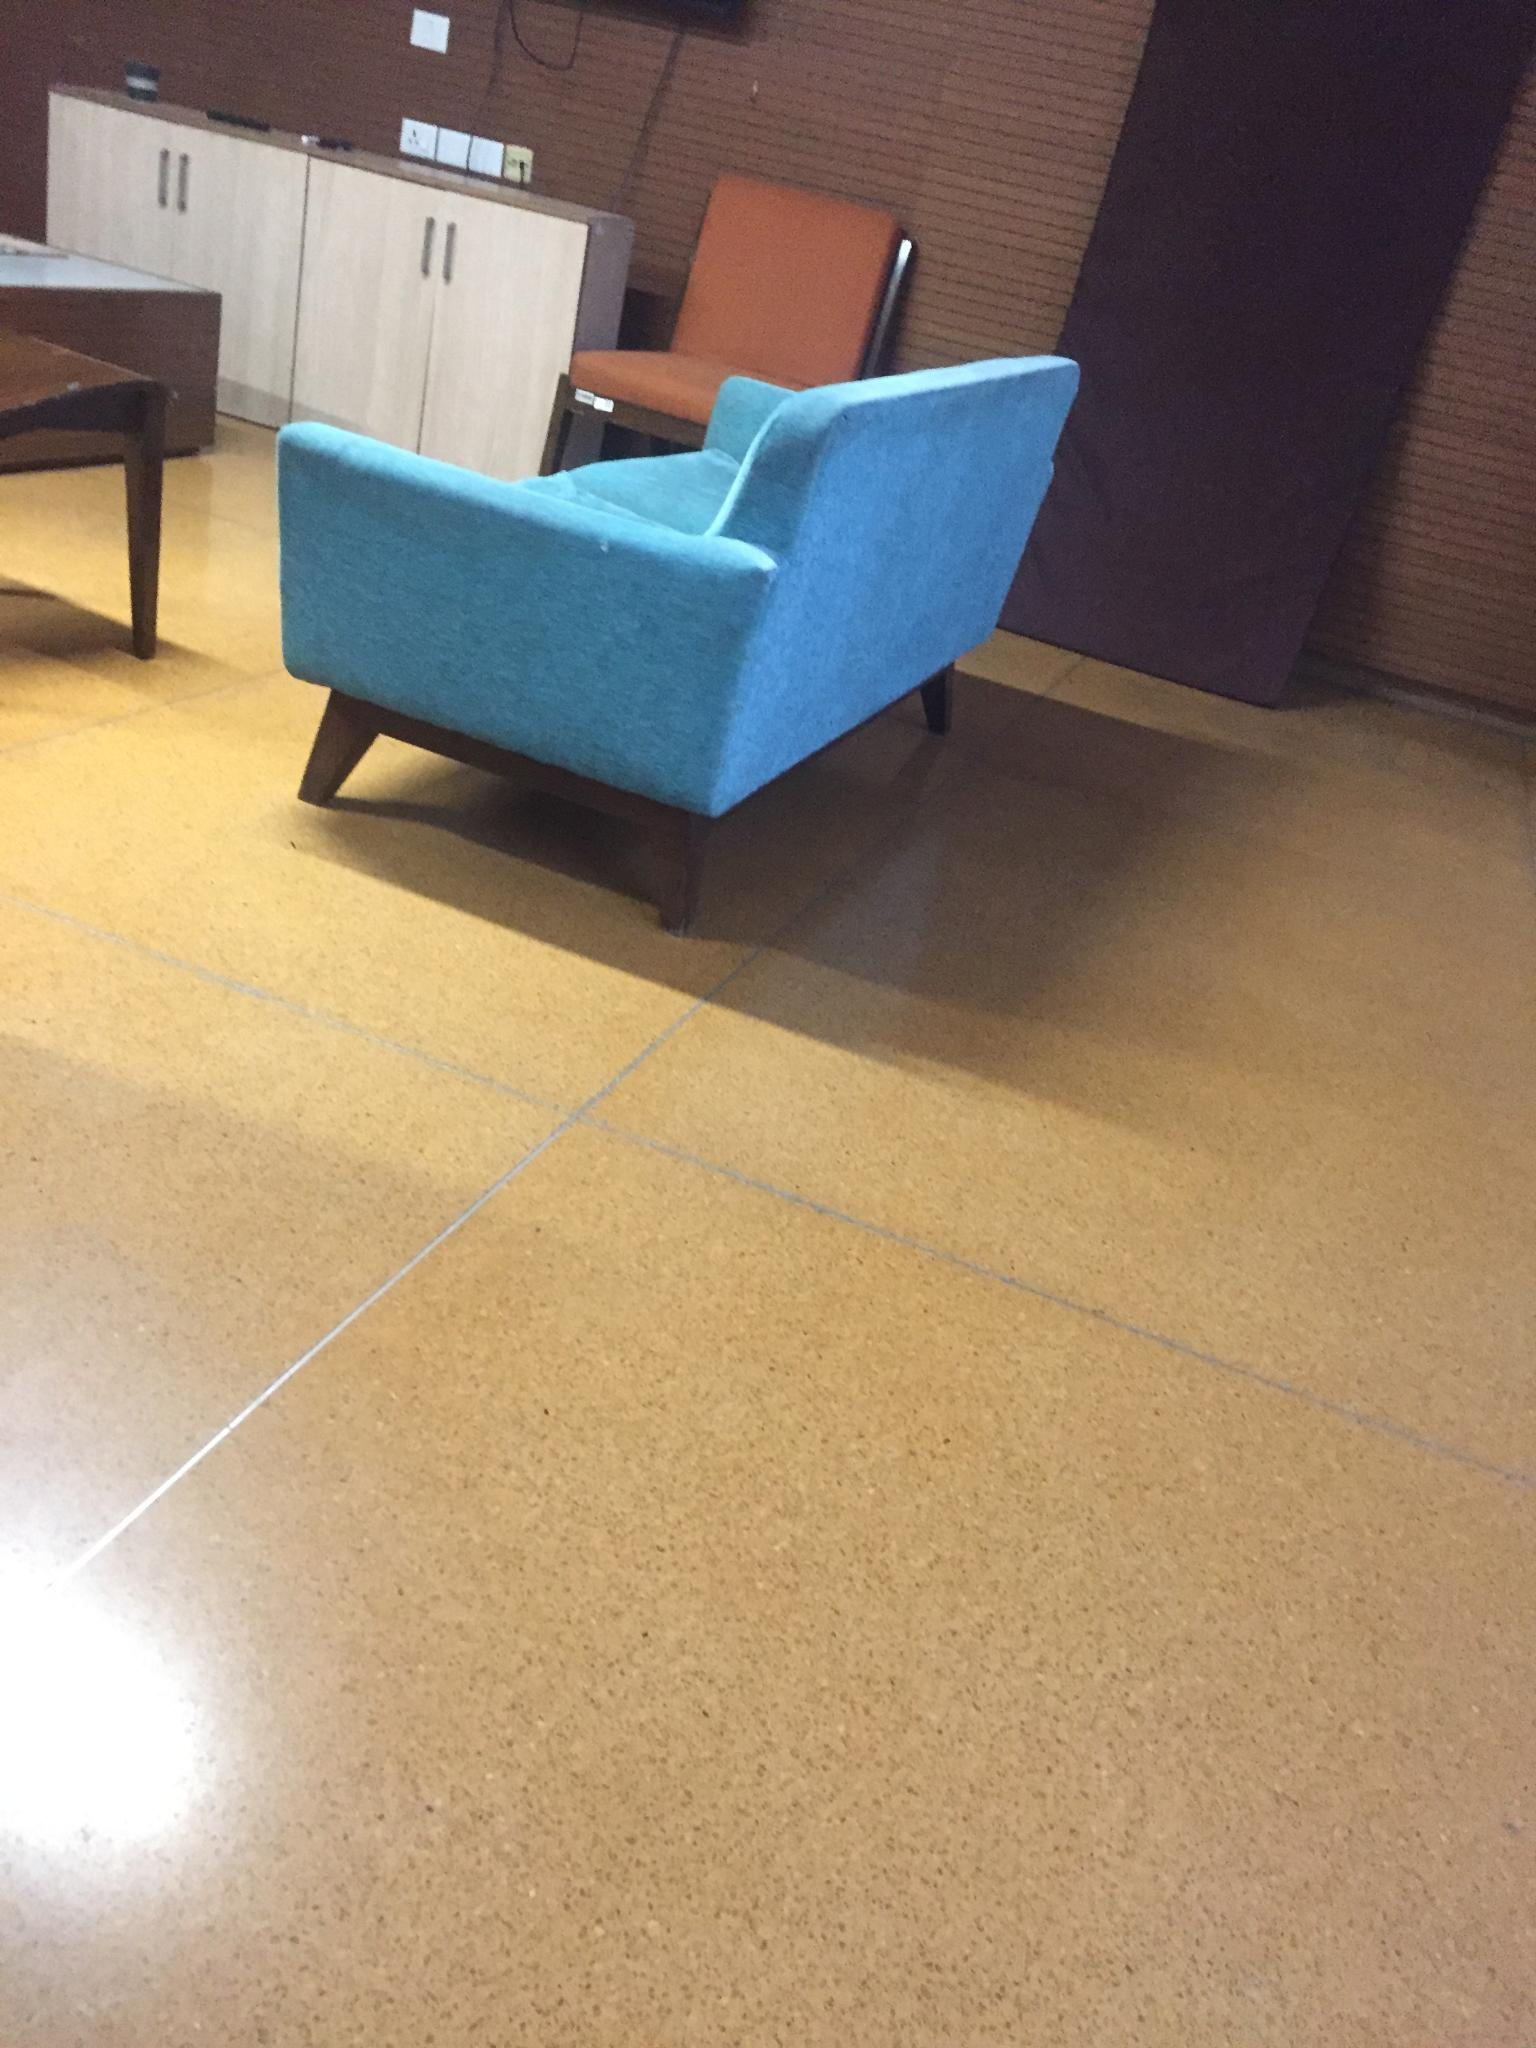chair: (541, 169, 916, 476)
